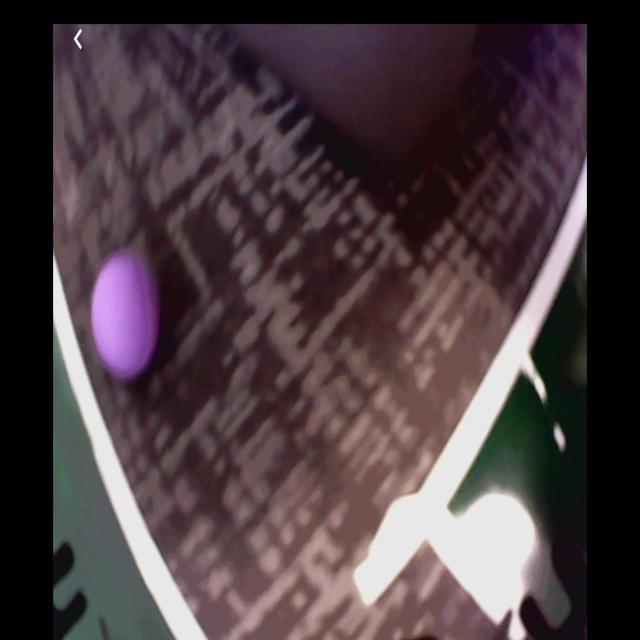ball: (91, 252, 160, 378)
